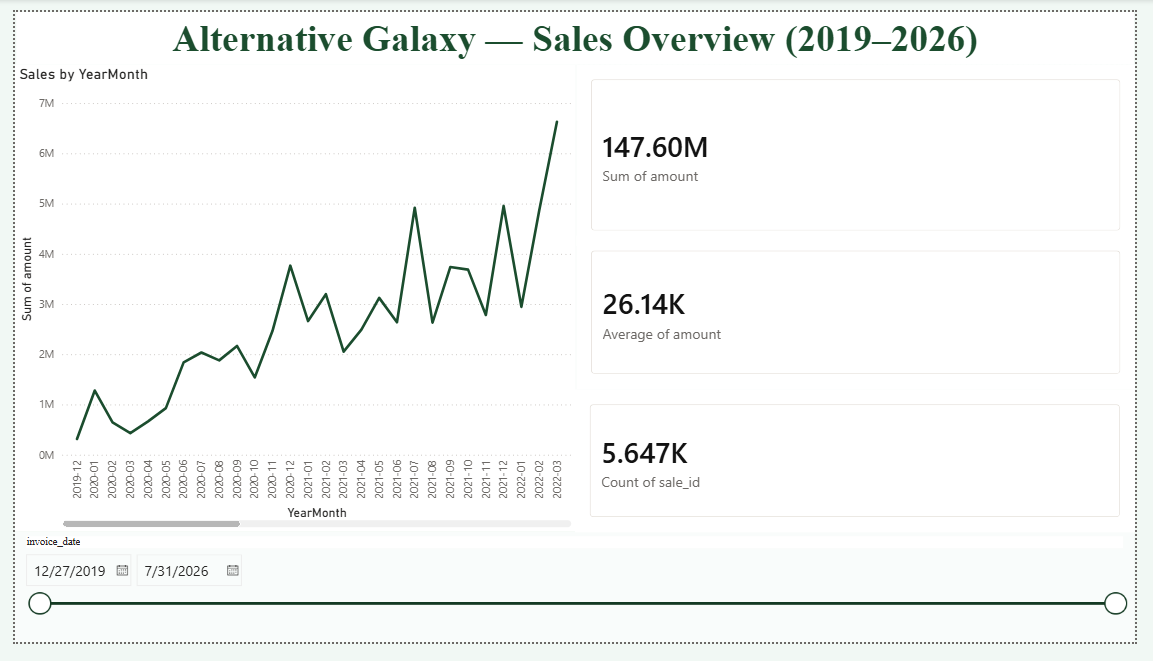

This screenshot's page, from the dashboard's own definition file:
{"tool":"powerbi","page":{"name":"Overview","canvas":[1280,720],"ordinal":0},"visuals":[{"type":"lineChart","title":"Sales by YearMonth","fields":{"Category":["sales.YearMonth"],"Y":["Sum(sales.amount)"]},"box":[0,60.4,640.8,533.8],"z":0},{"type":"cardVisual","fields":{"Data":["Sum(sales.amount)"]},"box":[640.8,60.4,639.5,207.2],"z":1000},{"type":"cardVisual","fields":{"Data":["Avg(sales.amount)"]},"box":[640.8,255.2,639.5,175.6],"z":2000},{"type":"cardVisual","fields":{"Data":["CountNonNull(sales.sale_id)"]},"box":[639.5,430.9,640.8,163.3],"z":3000},{"type":"textbox","box":[1.2,0,1277.5,60],"z":4000},{"type":"slicer","fields":{"Values":["sales.invoice_date"]},"box":[0,594.3,1279.1,126],"z":5000}]}

Visuals, with their boxes in screenshot pixels (x1, y1, x2, y2), scaled from the page's 1280x720 canvas onto the 1153x661 screenshot:
"Sales by YearMonth" lineChart: [0, 55, 577, 546]
cardVisual - Sum(sales.amount): [577, 55, 1152, 246]
cardVisual - Avg(sales.amount): [577, 234, 1152, 395]
cardVisual - CountNonNull(sales.sale_id): [576, 396, 1152, 546]
textbox: [1, 0, 1152, 55]
slicer - sales.invoice_date: [0, 546, 1152, 660]
